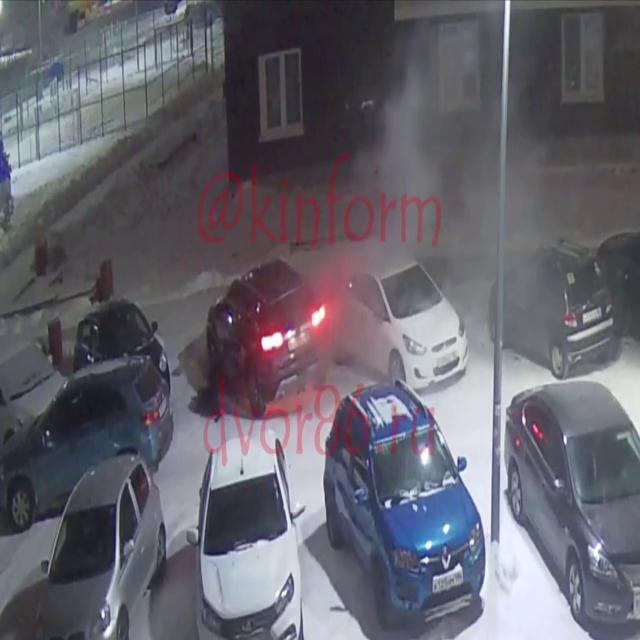Smoke: (340, 2, 596, 324)
